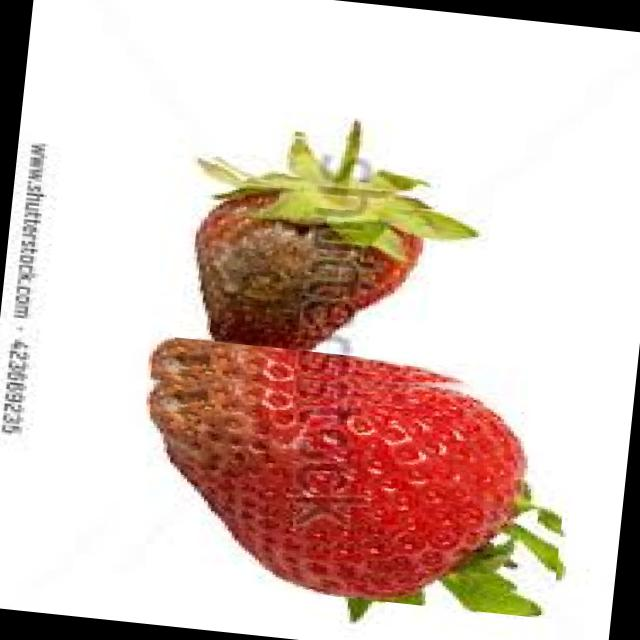Organic: (85, 334, 574, 619), (170, 118, 537, 373)
